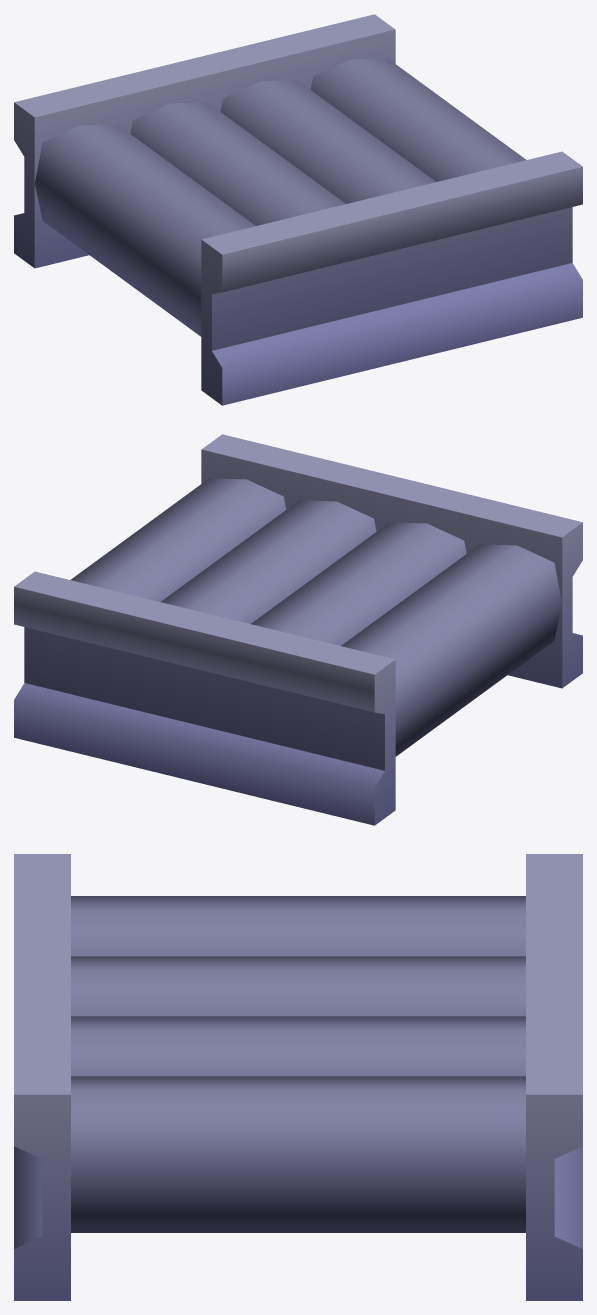
File: conveyor-bars-high.glb
3 views of the same model, one above another, from view 1: azimuth 30°, elevation 25°; view 2: azimuth 150°, elevation 25°; view 3: azimuth 270°, elevation 25° (orthographic). The views are drawn at different scales.
Visible parts, largest first — view 1: conveyor-bars-high; view 2: conveyor-bars-high; view 3: conveyor-bars-high.
Boxes of the visible parts, x1,y1,x2,y2 form: conveyor-bars-high: (14,14,582,405); conveyor-bars-high: (14,434,582,825); conveyor-bars-high: (14,854,582,1300).
Bounding box in the file's own units: 1 × 0.4 × 1.
